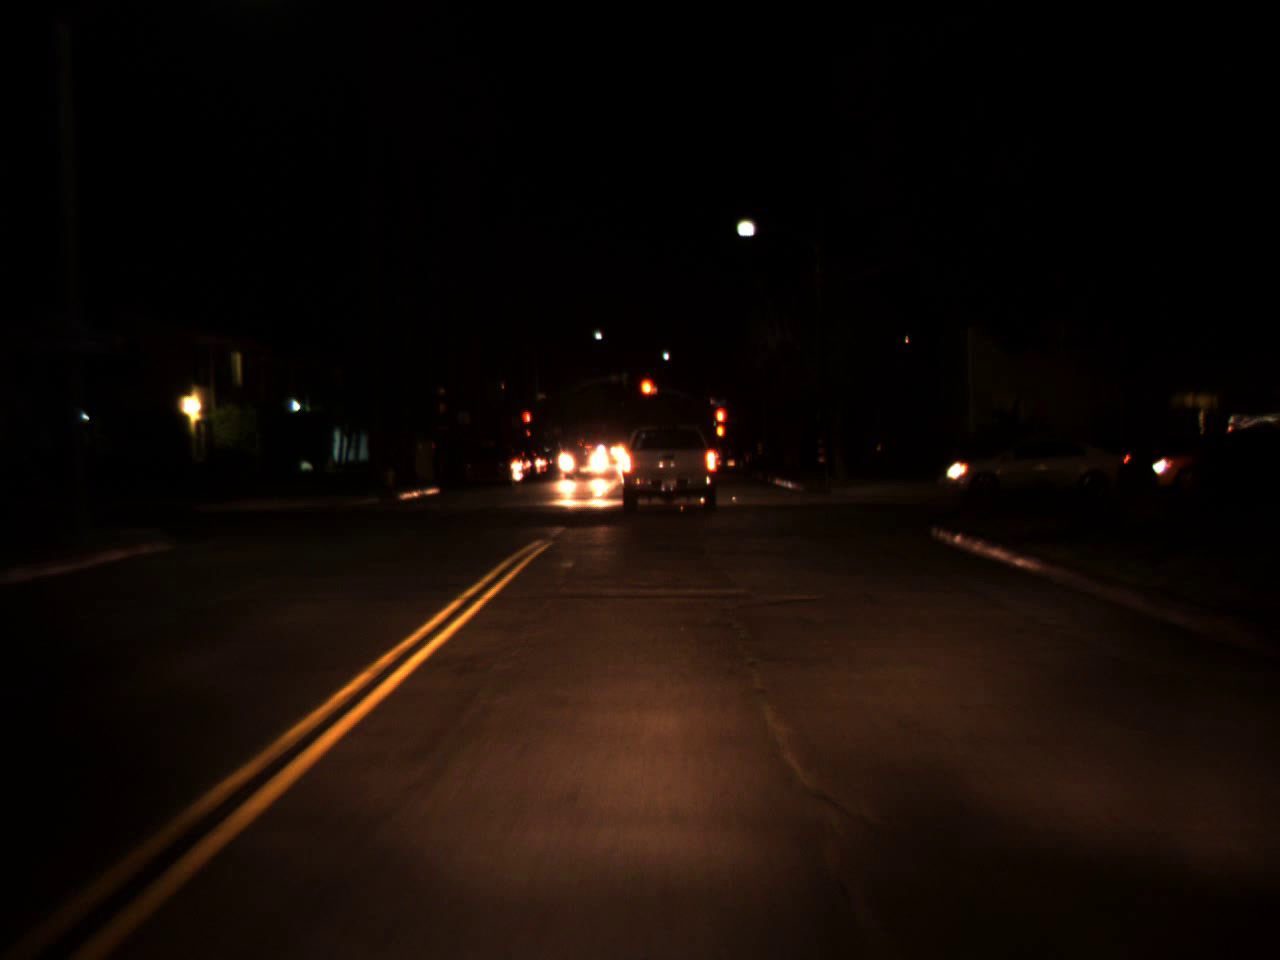stop: (638, 376, 659, 413), (522, 409, 531, 436), (715, 409, 724, 433)
